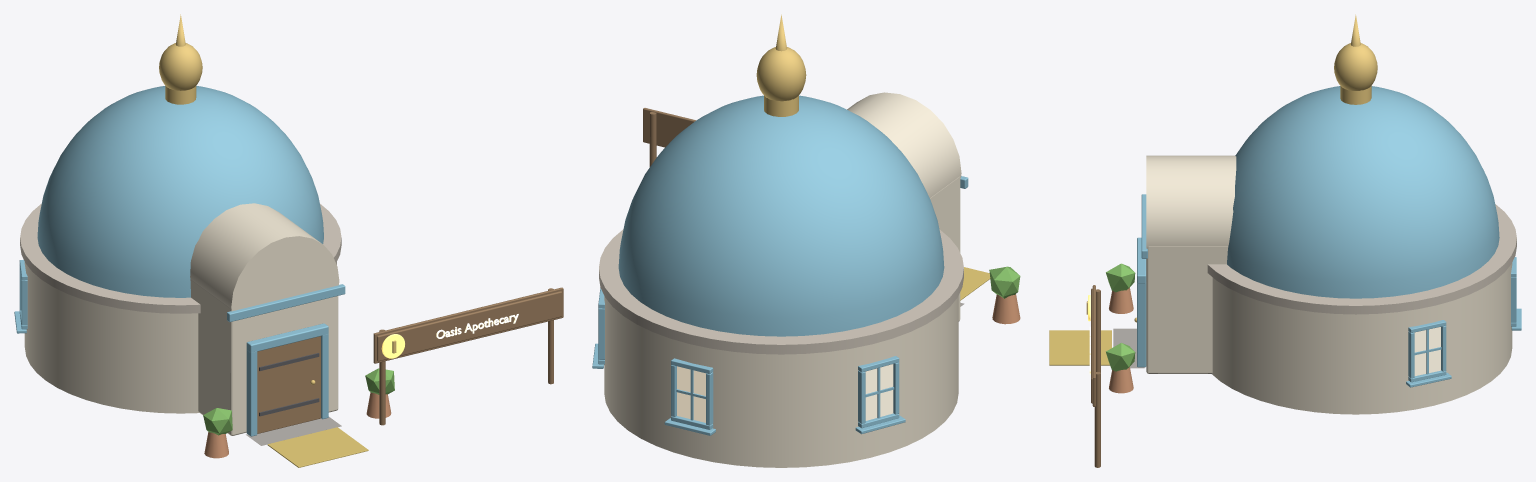
Rendered from oasis_apothecary.fbx.
The picture shows the model from 3 angles, left to right: view 1: azimuth 30°, elevation 25°; view 2: azimuth 150°, elevation 25°; view 3: azimuth 270°, elevation 25°; orthographic projection. The views are drawn at different scales.
Visible parts, largest first — view 1: oasis_apothecary; view 2: oasis_apothecary; view 3: oasis_apothecary.
Part boxes in pixels (left/top/right/bottom): oasis_apothecary: left=14, top=14, right=563, bottom=467; oasis_apothecary: left=592, top=14, right=1020, bottom=467; oasis_apothecary: left=1049, top=14, right=1521, bottom=467.
Size of the model in its own units: 14.47 by 11.8 by 15.1.
